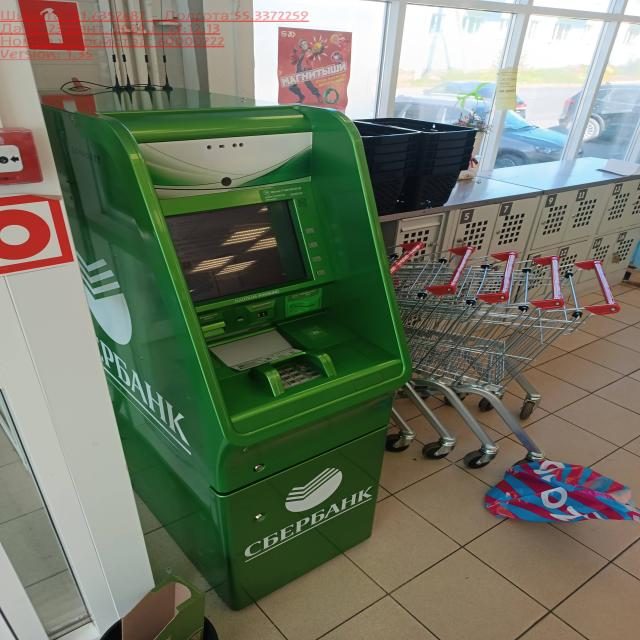bank: (22, 77, 412, 600)
